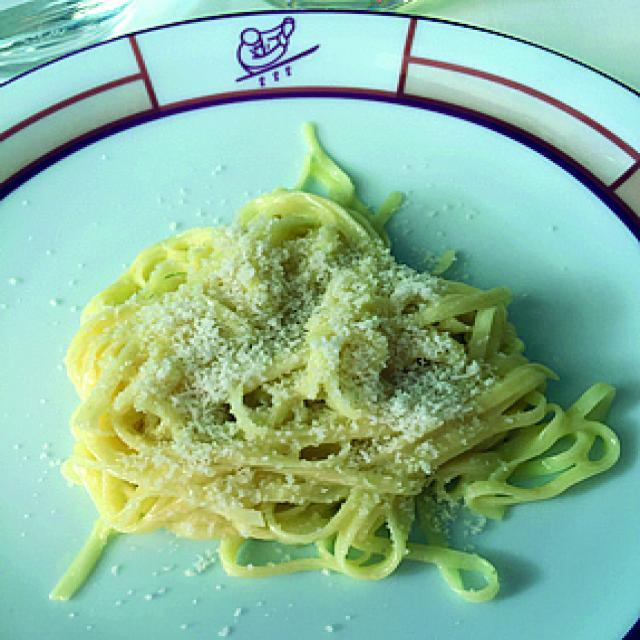Oil pasta: (83, 161, 603, 640)
